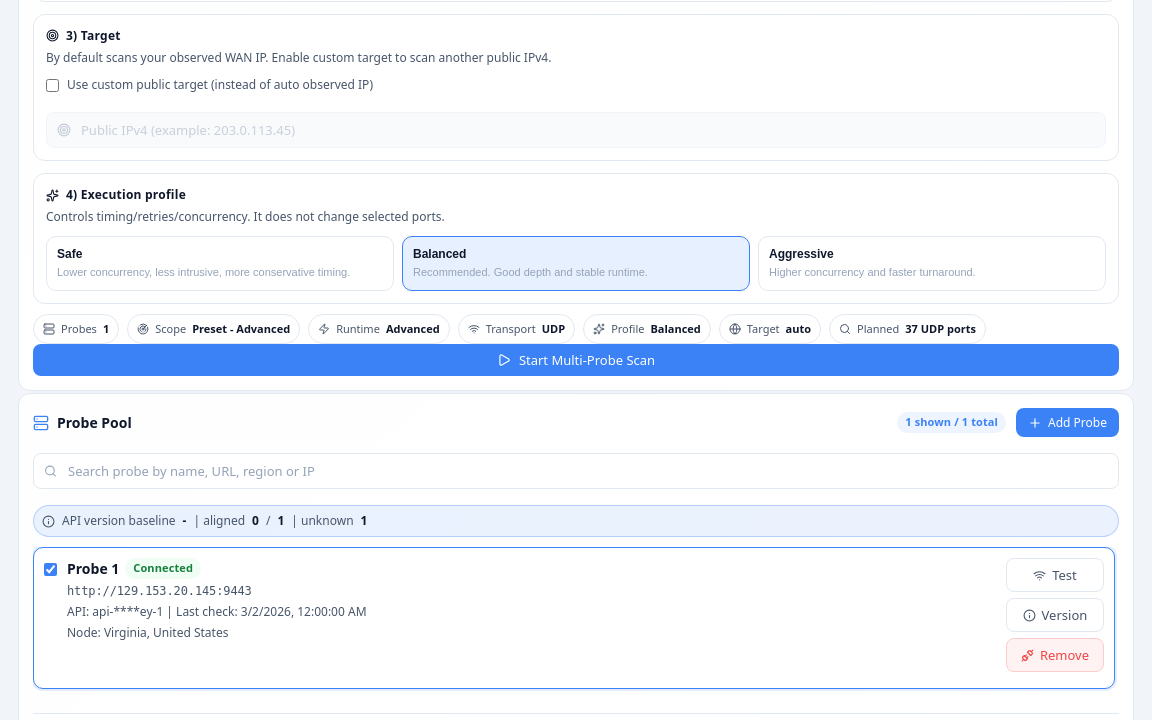
Test: WanProbe scan flow › blocks UDP scan when selected probe reports UDP disabled
(page scrolled)
Expected: the text "1 shown / 1 total" is shown, [897,412,1006,432]
Click the button "Start Multi-Probe Scan" at [576, 360], box [33,344,1119,376]
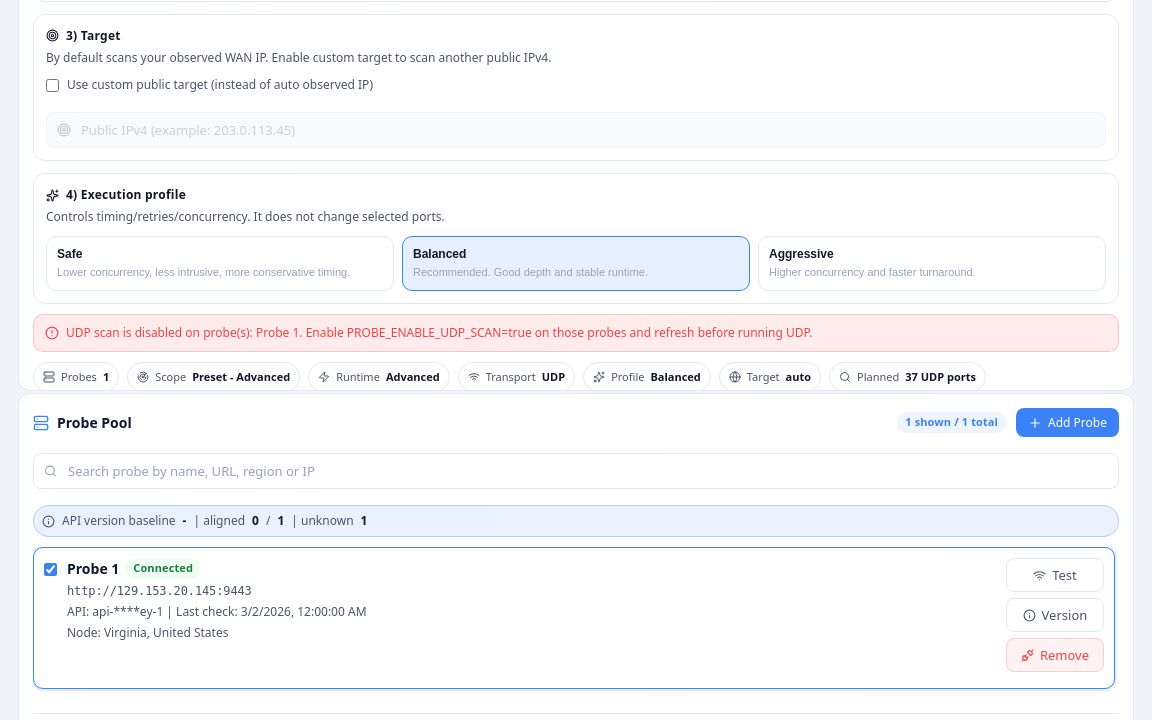
Now the text "UDP scan is disabled on probe(s): Probe 1." is shown, box [66,323,812,340]
